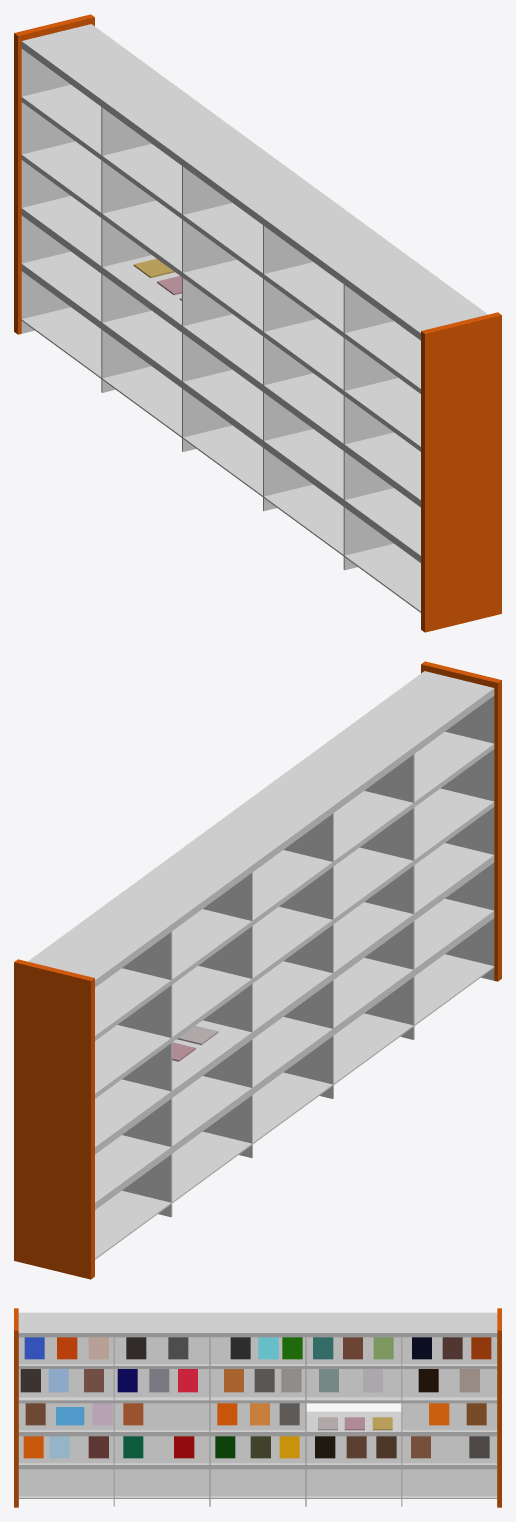
Rendered from tijdschriftenkast_animation.glb.
3 renders of one model, top to bottom at view 1: azimuth 30°, elevation 25°; view 2: azimuth 150°, elevation 25°; view 3: azimuth 270°, elevation 25°, orthographic. The views are drawn at different scales.
Visible parts, largest first — view 1: Cube; view 2: Cube; view 3: Cube.
Boxes of the visible parts, x1,y1,x2,y2 form: Cube: (14,14,501,632); Cube: (14,661,501,1279); Cube: (14,1308,501,1507).
Size of the model in its own units: 0.55 by 2.04 by 5.09.
